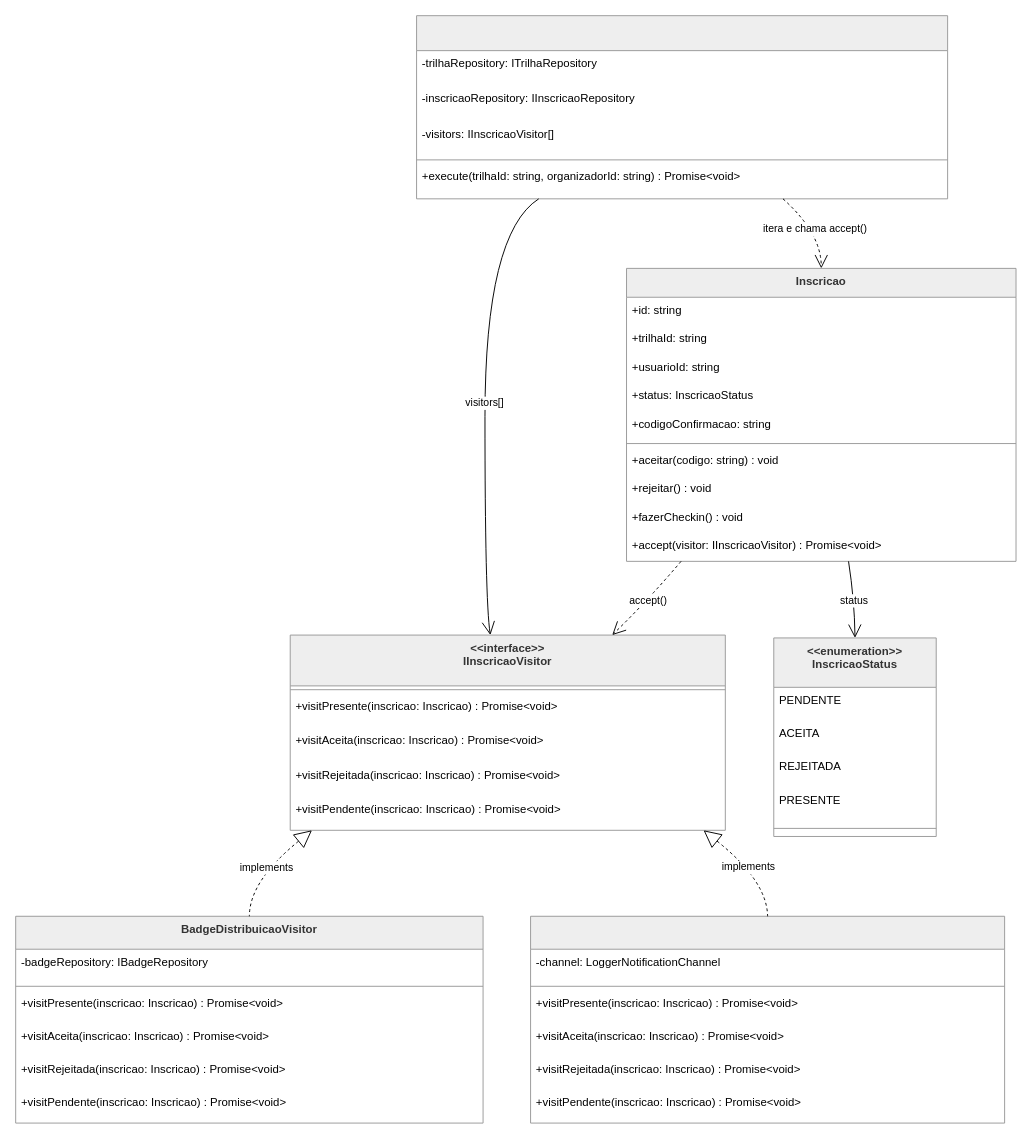
The diagram is 1032 pixels wide and 1139 high, and some of its shapes have lost their labels. The box of each missing label's shape, as (x1, y1, x2, y2) in pixels:
FinalizarTrilhaUseCase: (416, 15, 948, 199)
NotificacaoInscricaoVisitor: (530, 915, 1005, 1123)
